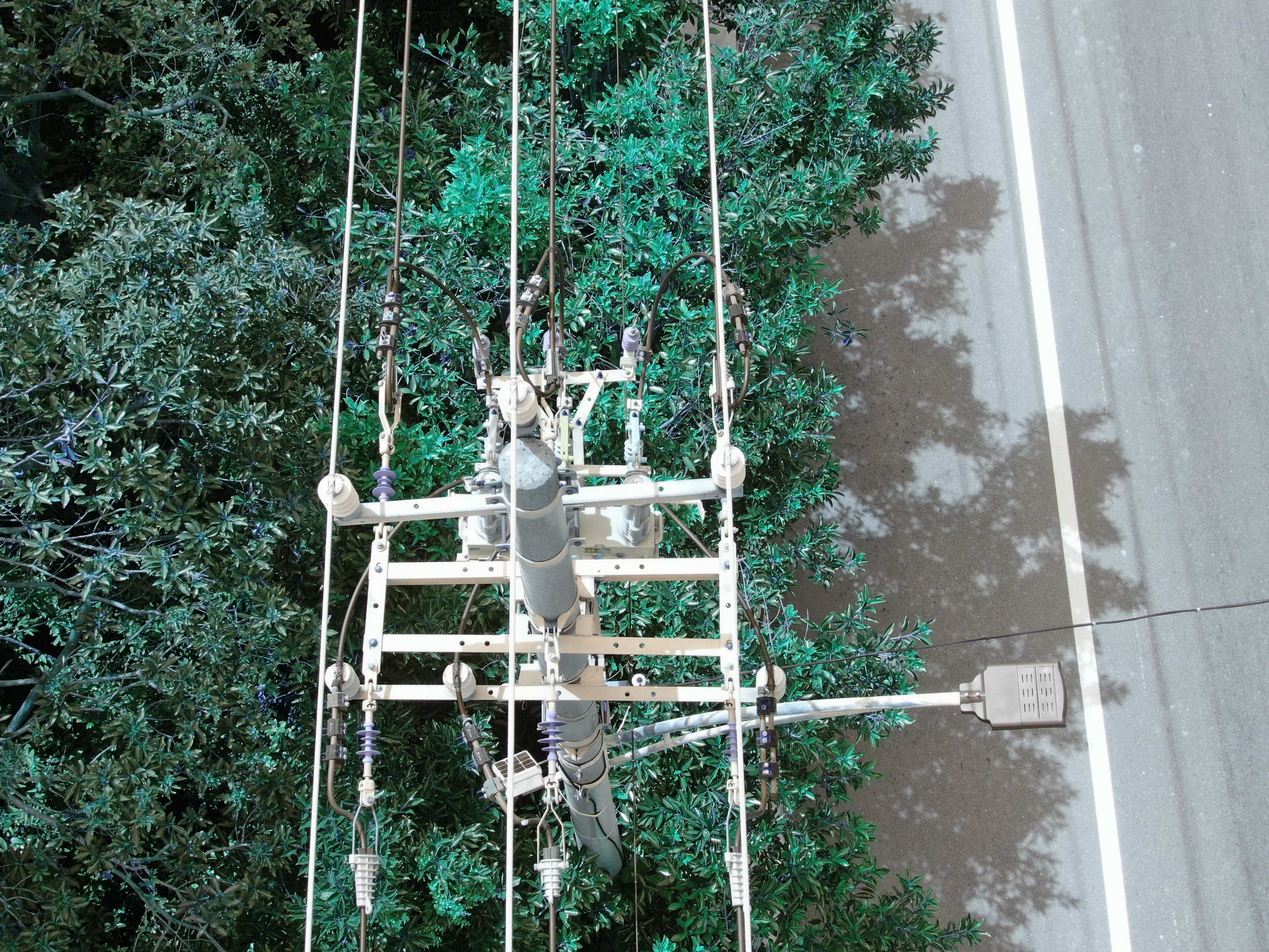severe_soiling_no_discharge_whole: (496, 377, 537, 416)
